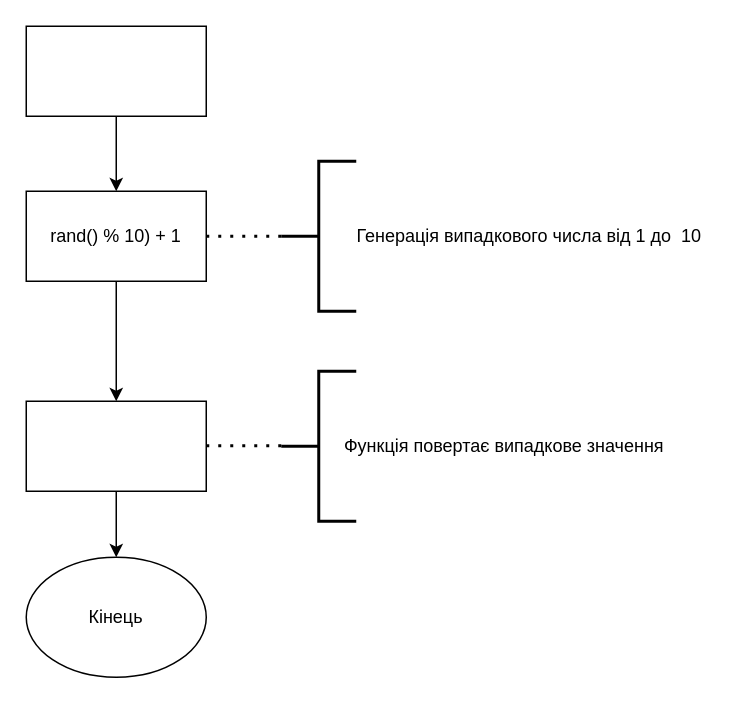
Image size: 743x704. Some labels were removed from this diagram. The centre of each missing label's shape, as x and y in pixels:
"return value" belongs at (115,445).
"Початок" belongs at (115,70).
